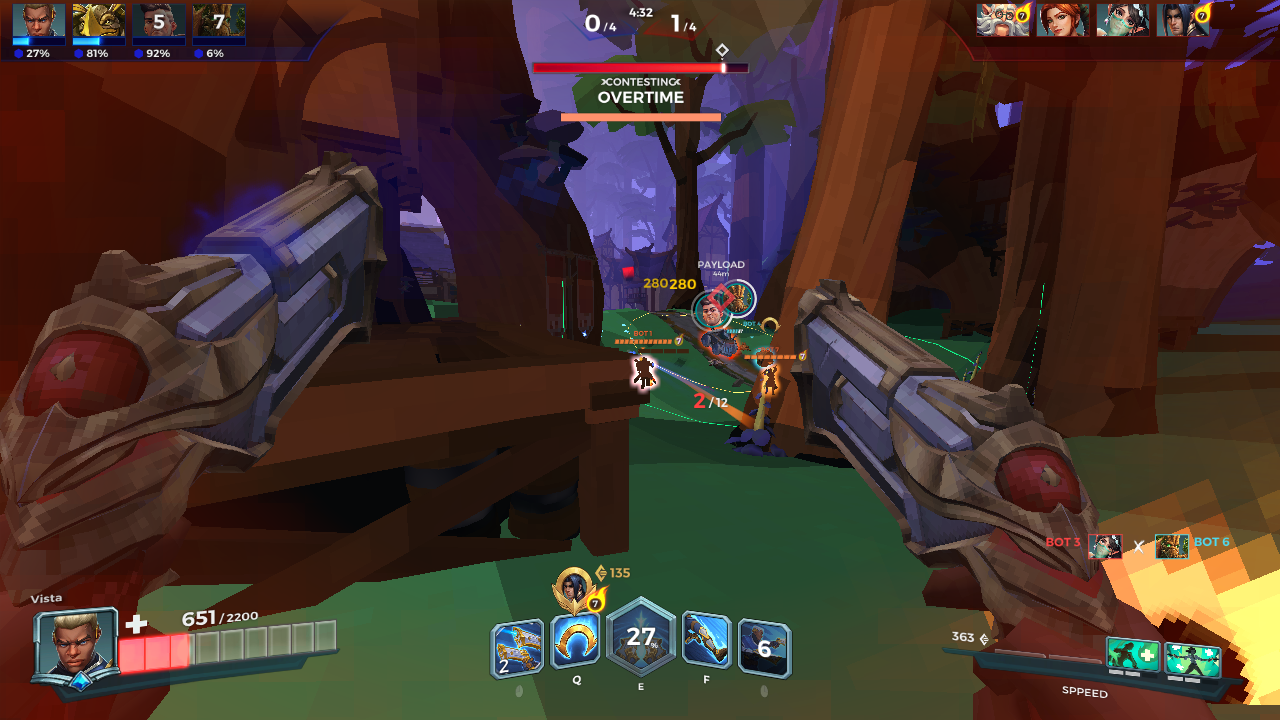model: (631, 351, 660, 393), (760, 362, 782, 398)
